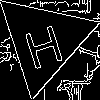H: (19, 15, 66, 70)
